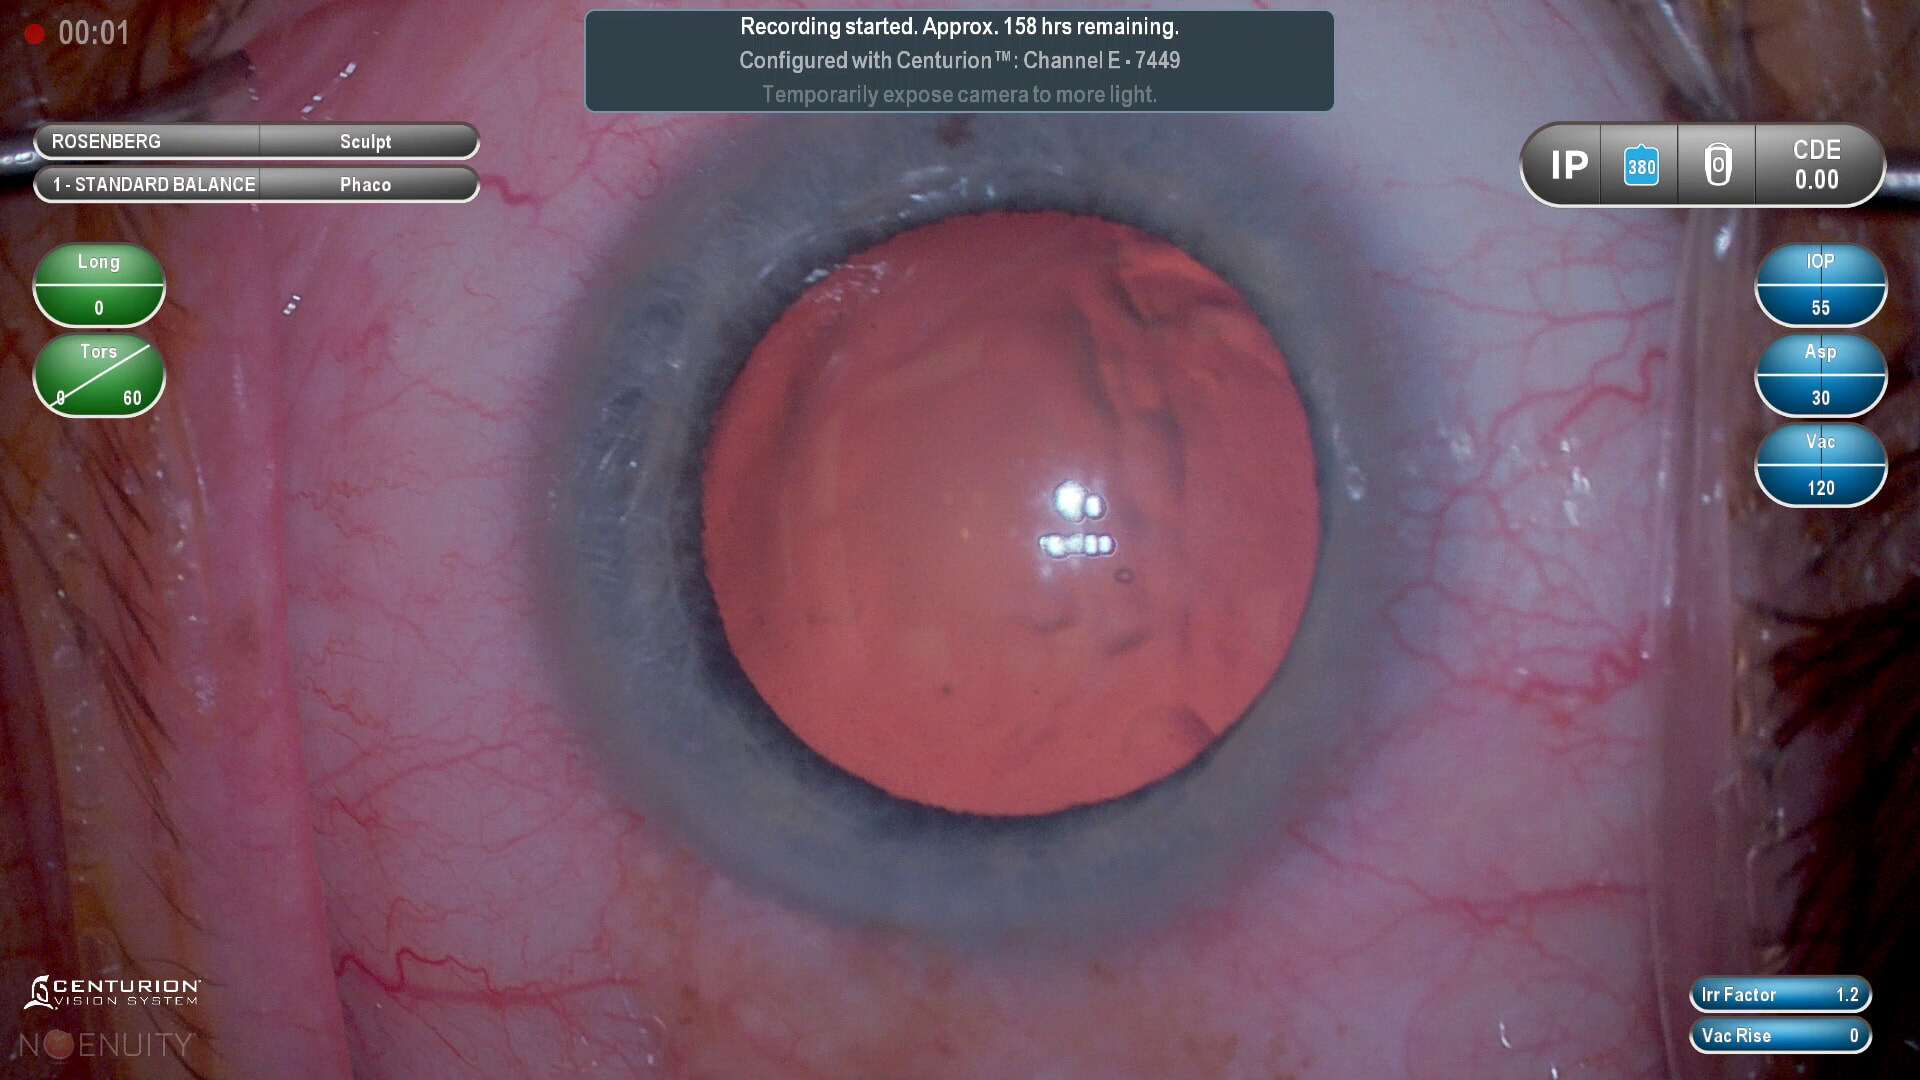iris: (567, 94, 1403, 931)
pupil: (699, 211, 1323, 817)
